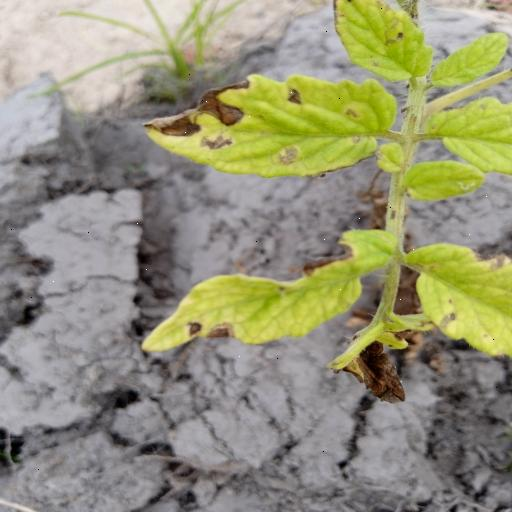Tomato_Brown_Spots: (142, 220, 404, 356), (143, 72, 400, 180), (407, 241, 512, 363)
